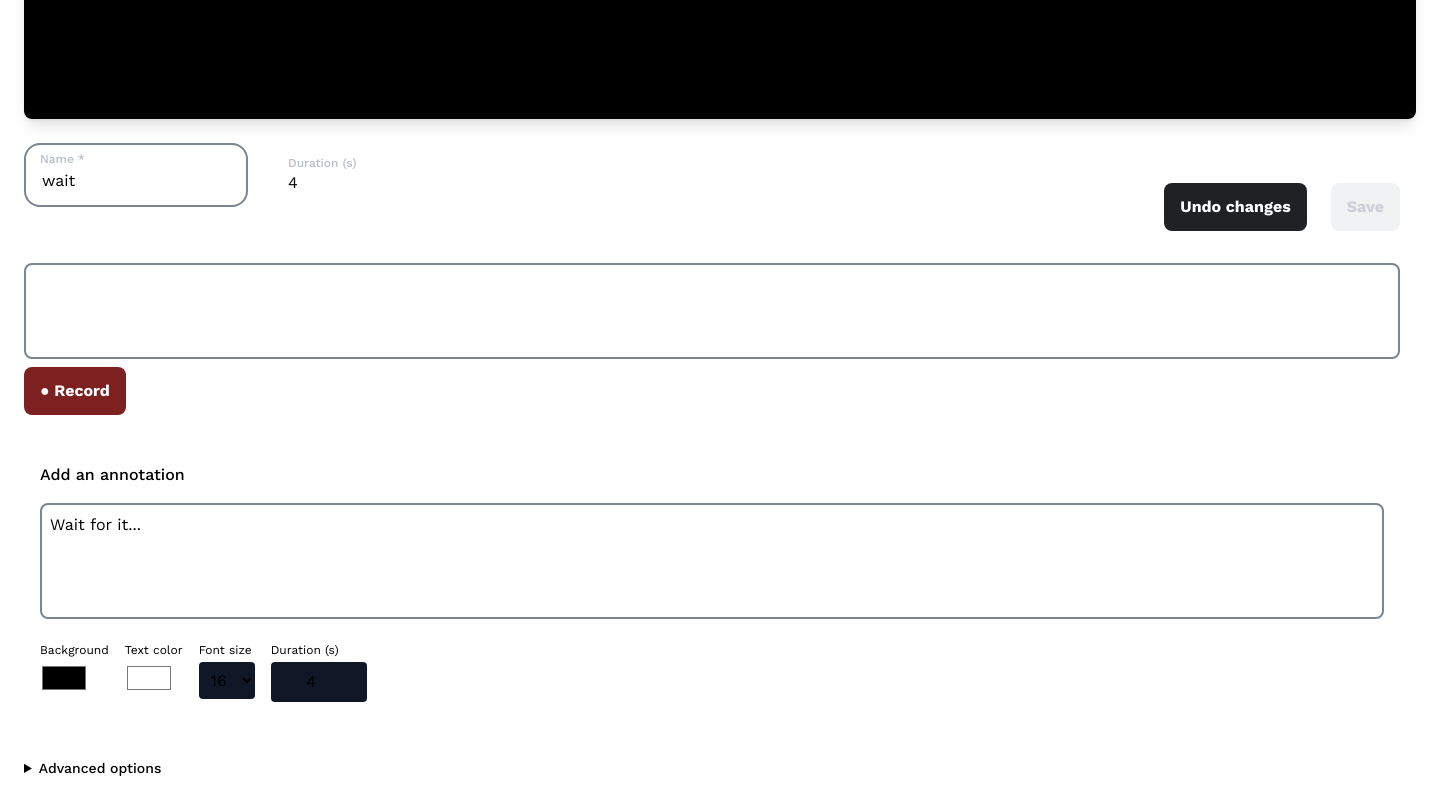
Test case: <EditorWorkspace /> › restores the live version when "Current" is selected
(page scrolled)
Click the heading "Advanced options" at (100, 768), box [39, 760, 161, 776]
(page scrolled)
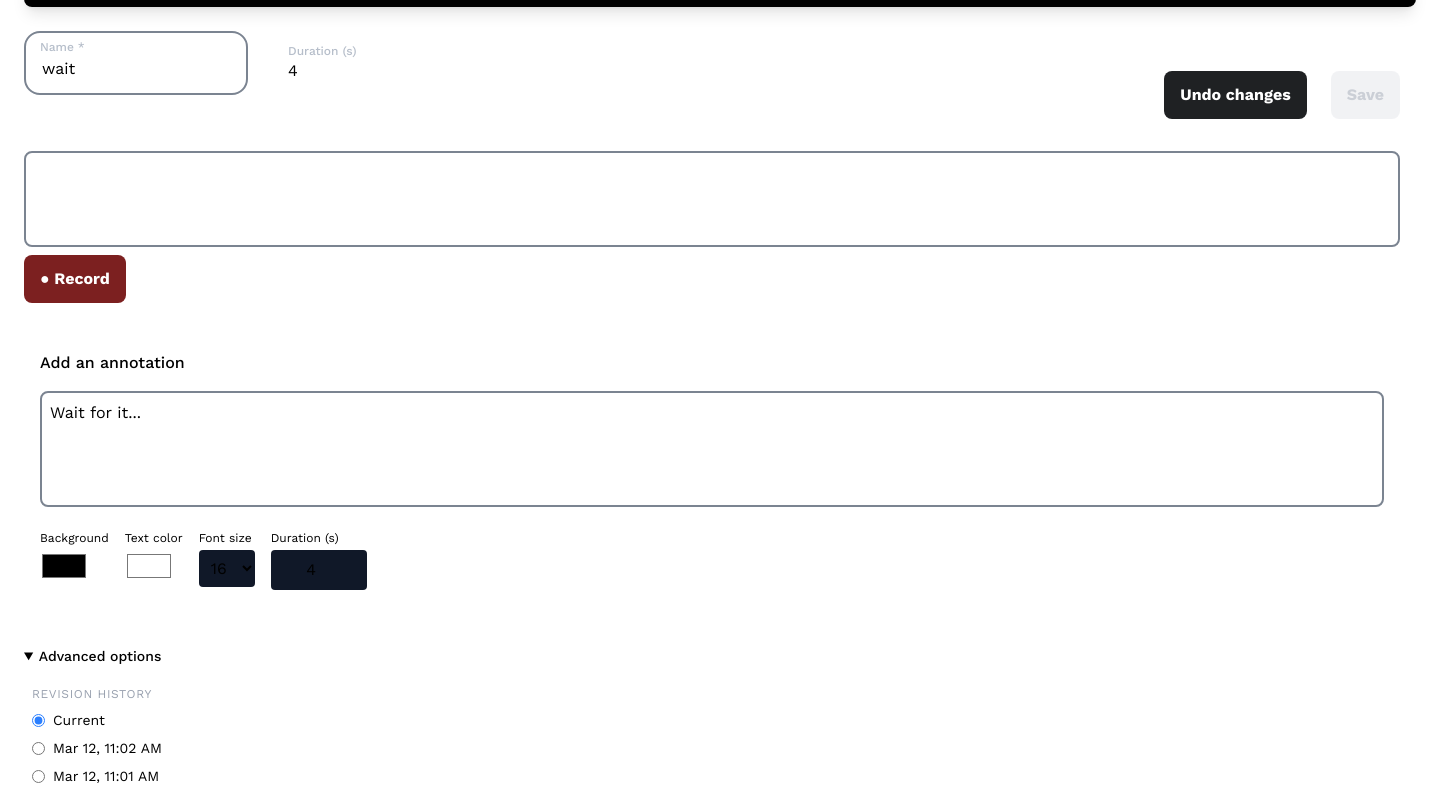
Click the radio button labelled "Mar 12, 11:01 AM" at (38, 776), box [32, 770, 45, 782]
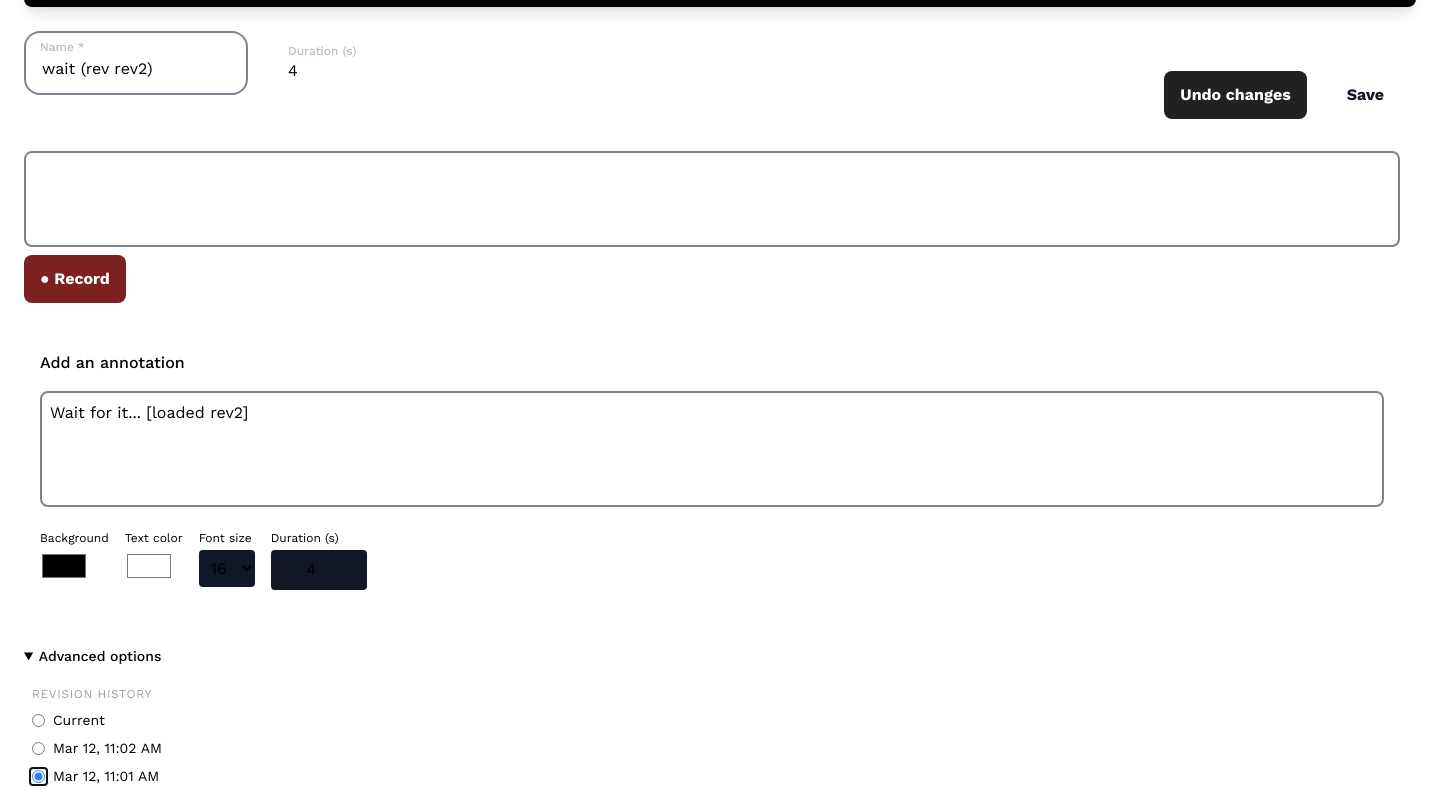
Click the radio button labelled "Current" at (38, 720), box [32, 714, 45, 726]
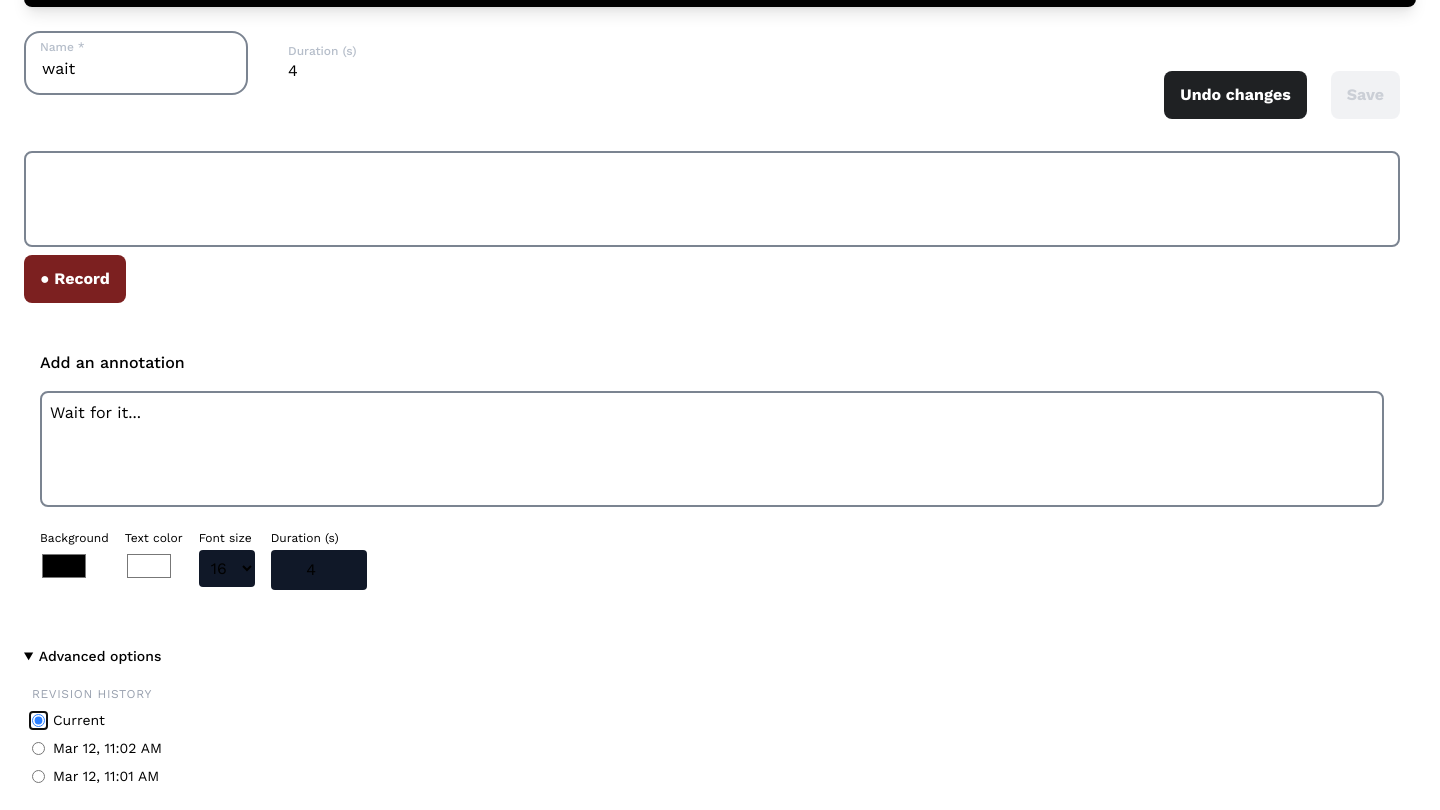
Check: the field labelled "Name *" holds "wait", box [24, 31, 248, 95]
